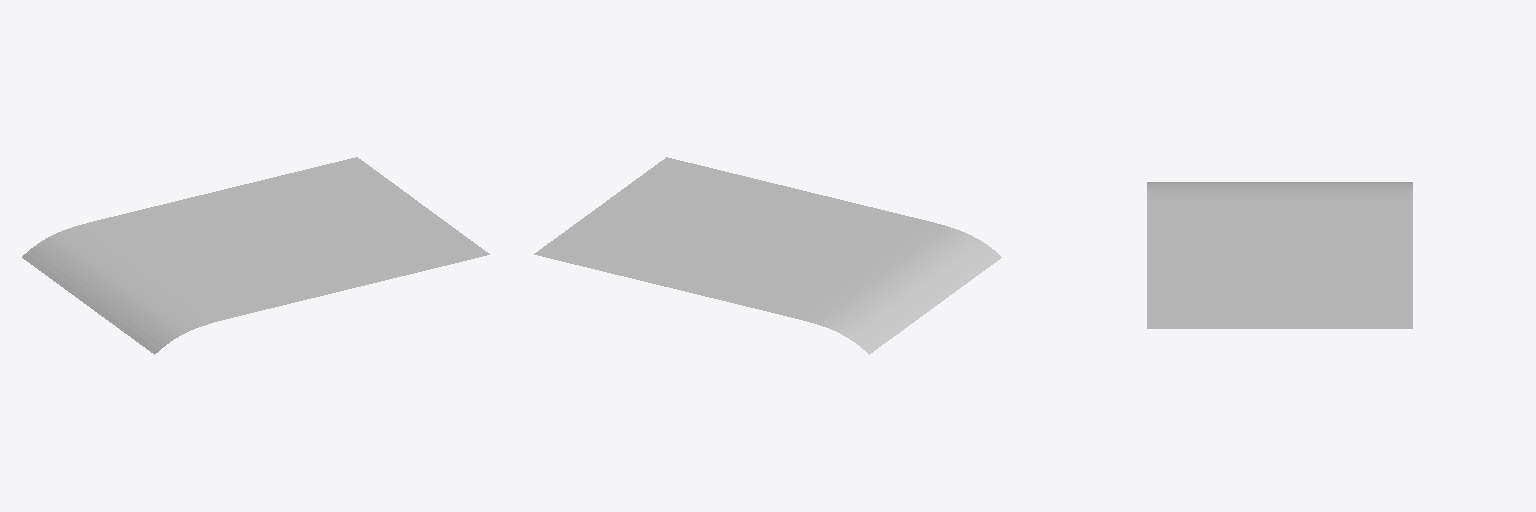
File: CurvePaper_000067.obj
The picture shows the model from 3 angles: view 1: azimuth 30°, elevation 25°; view 2: azimuth 150°, elevation 25°; view 3: azimuth 270°, elevation 25°; orthographic projection.
Parts seen in each view (by area): view 1: Plane; view 2: Plane; view 3: Plane.
Part boxes in pixels (x1,y1,x2,y2): Plane: (22, 157, 489, 354); Plane: (534, 157, 1001, 354); Plane: (1147, 182, 1412, 328).
Size of the model in its own units: 3.29 by 0.1745 by 2.26.